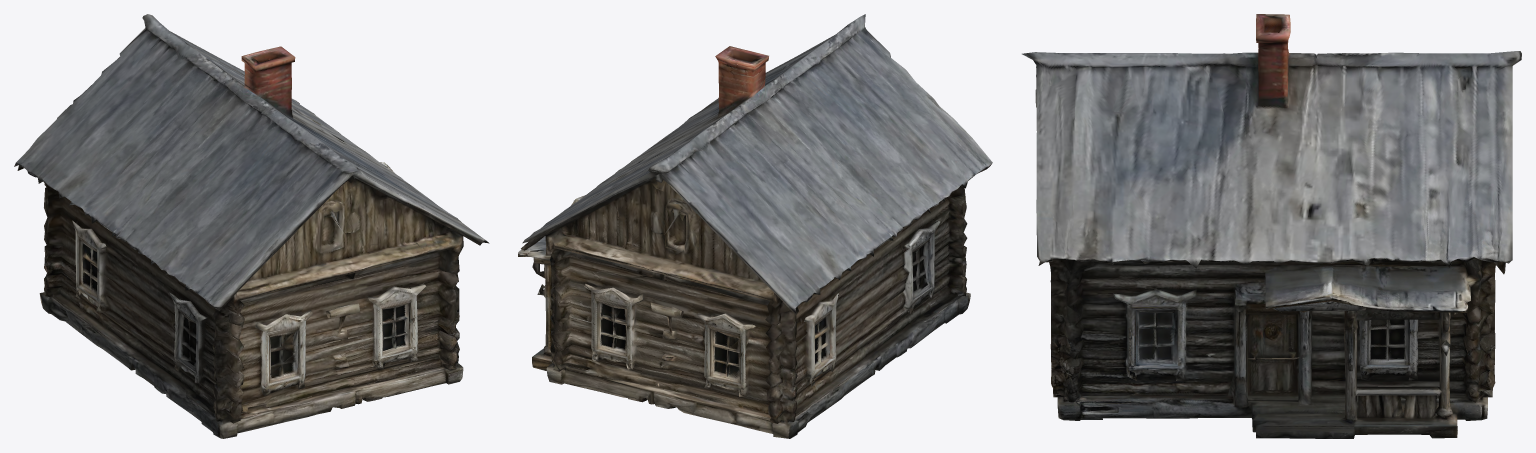
Rendered from ul_house.glb.
3 renders of one model, left to right at view 1: azimuth 30°, elevation 25°; view 2: azimuth 150°, elevation 25°; view 3: azimuth 270°, elevation 25°, orthographic. The views are drawn at different scales.
Visible parts, largest first — view 1: tripo_node_e2f364ef-3c86-4548-b689-9000f8b6f0d1; view 2: tripo_node_e2f364ef-3c86-4548-b689-9000f8b6f0d1; view 3: tripo_node_e2f364ef-3c86-4548-b689-9000f8b6f0d1.
Boxes of the visible parts, x1,y1,x2,y2 form: tripo_node_e2f364ef-3c86-4548-b689-9000f8b6f0d1: (14, 14, 489, 438); tripo_node_e2f364ef-3c86-4548-b689-9000f8b6f0d1: (518, 14, 992, 438); tripo_node_e2f364ef-3c86-4548-b689-9000f8b6f0d1: (1022, 14, 1521, 438).
Size of the model in its own units: 0.7958 by 0.7292 by 0.9806.
1 material, 1 textured.
